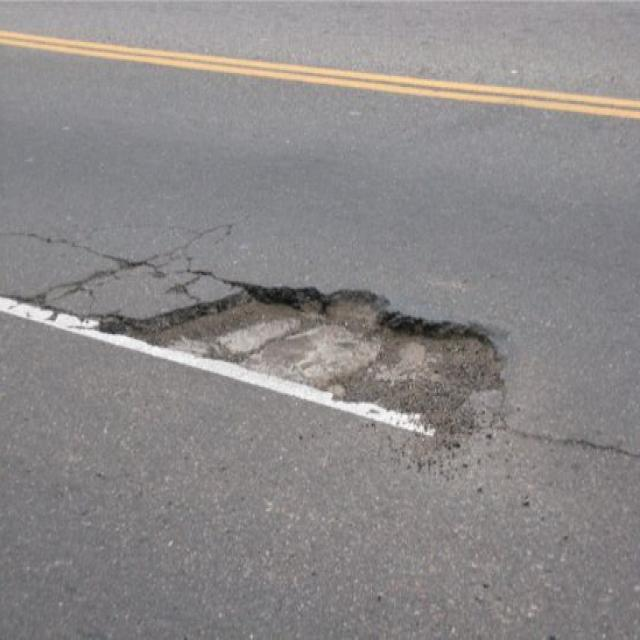Pothole: (93, 275, 516, 443)
